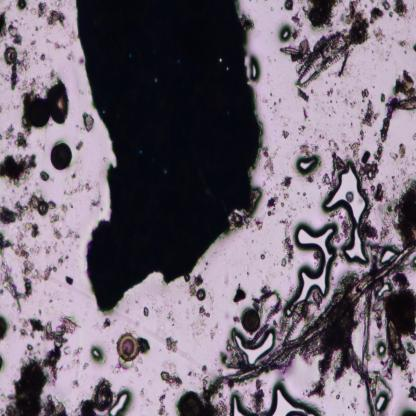Air bubble: (287, 219, 343, 309), (324, 161, 372, 265), (224, 386, 323, 416), (232, 328, 280, 368), (293, 150, 320, 178), (106, 388, 130, 416), (246, 52, 261, 81), (379, 244, 396, 265), (88, 343, 106, 362), (374, 392, 389, 413), (280, 24, 293, 40), (376, 342, 387, 359)
Background material: (0, 344, 64, 416), (372, 58, 416, 160), (319, 307, 362, 384), (388, 274, 416, 384), (18, 313, 76, 350), (392, 175, 416, 255), (306, 345, 343, 396), (14, 228, 36, 301), (0, 187, 37, 229), (343, 0, 372, 49), (303, 0, 343, 32), (0, 255, 23, 307), (0, 152, 37, 182), (19, 71, 48, 103), (155, 358, 183, 389), (322, 144, 338, 194), (42, 254, 70, 281), (186, 309, 210, 338), (158, 295, 179, 325), (230, 277, 250, 305), (250, 378, 266, 412), (54, 29, 77, 52), (188, 269, 206, 297), (260, 147, 274, 183), (388, 140, 413, 160), (61, 182, 90, 199), (360, 100, 374, 134), (369, 181, 388, 203), (18, 48, 34, 74), (394, 0, 410, 25), (48, 9, 68, 29), (290, 12, 304, 40), (0, 228, 15, 254), (282, 236, 294, 268), (207, 399, 229, 416), (81, 109, 95, 134), (227, 354, 244, 374), (9, 58, 20, 88), (8, 22, 22, 45), (137, 334, 152, 355), (113, 358, 134, 373), (369, 4, 383, 26), (92, 182, 102, 212), (0, 10, 10, 40), (76, 400, 94, 416), (164, 334, 178, 354), (326, 139, 340, 158), (15, 130, 29, 149), (69, 348, 82, 368), (100, 318, 116, 334), (63, 225, 80, 240), (265, 194, 276, 217), (157, 393, 168, 416), (300, 142, 318, 156), (278, 173, 294, 188), (42, 244, 60, 256), (26, 220, 38, 238), (296, 85, 310, 100), (4, 122, 15, 141), (37, 0, 48, 19), (51, 224, 64, 240), (34, 133, 45, 151), (404, 338, 415, 356), (0, 316, 9, 338), (367, 223, 378, 241), (382, 223, 392, 242), (20, 119, 31, 135), (346, 217, 352, 245), (360, 88, 374, 99), (351, 143, 359, 161), (49, 0, 63, 10), (140, 304, 150, 318), (375, 29, 385, 43), (63, 202, 72, 217), (49, 212, 60, 224), (40, 169, 50, 182), (66, 50, 76, 62), (364, 149, 374, 161), (0, 353, 6, 373), (48, 66, 57, 78), (77, 137, 85, 150), (258, 248, 266, 261), (351, 402, 359, 415), (70, 170, 80, 180), (64, 275, 73, 286), (62, 345, 71, 356), (255, 220, 262, 234), (384, 0, 392, 12), (138, 388, 145, 401), (0, 72, 9, 82), (282, 128, 290, 139), (359, 127, 365, 141), (342, 134, 347, 150), (76, 56, 86, 64), (400, 40, 410, 48), (14, 18, 22, 27), (30, 7, 38, 16), (298, 126, 307, 134), (380, 92, 385, 106), (280, 219, 290, 226), (82, 362, 90, 370), (49, 201, 57, 209), (304, 109, 310, 119), (203, 378, 209, 388), (2, 146, 12, 152), (71, 377, 78, 385), (307, 174, 314, 182), (329, 87, 335, 96), (318, 133, 325, 140), (28, 344, 34, 352), (202, 363, 206, 375), (40, 54, 46, 62), (78, 88, 84, 96), (350, 99, 356, 107), (282, 199, 286, 210), (330, 107, 336, 114), (300, 190, 306, 197), (35, 24, 42, 30), (46, 39, 54, 44), (349, 88, 354, 96), (32, 39, 37, 47), (33, 58, 39, 64), (413, 391, 416, 402), (344, 96, 348, 104), (188, 368, 192, 376), (278, 96, 282, 103), (0, 132, 3, 141), (413, 42, 416, 51), (413, 132, 416, 140), (270, 6, 274, 12), (385, 57, 389, 63), (310, 88, 314, 93), (75, 123, 79, 128), (273, 100, 277, 105), (14, 104, 19, 108), (390, 13, 394, 18), (337, 91, 340, 96), (330, 100, 333, 104), (0, 104, 1, 113), (350, 122, 352, 126), (270, 92, 272, 96), (405, 51, 407, 53), (330, 115, 331, 117)
Cellulose filter fibre: (204, 243, 416, 399), (359, 281, 380, 416)
Diatom: (296, 28, 349, 88), (251, 288, 279, 346), (274, 303, 306, 348), (47, 79, 72, 126), (176, 385, 206, 416), (48, 141, 76, 173), (25, 99, 51, 131), (115, 332, 141, 364), (92, 378, 113, 413), (241, 308, 261, 333), (359, 162, 378, 180), (280, 46, 302, 56), (3, 46, 17, 61), (37, 200, 49, 216), (194, 286, 206, 301), (298, 38, 308, 56), (284, 0, 294, 12), (17, 0, 27, 11)
Fragment: (72, 0, 259, 316)
